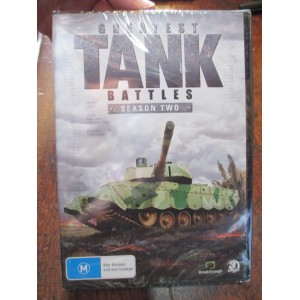Battle Tank: (64, 122, 240, 238)
